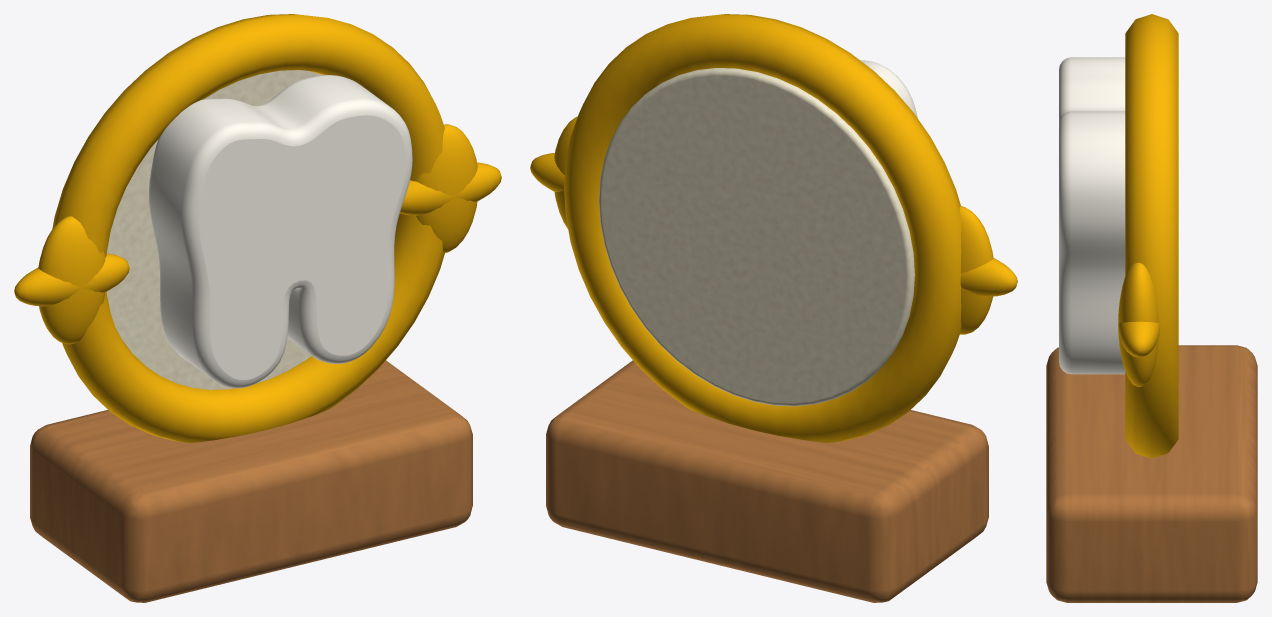
The model's file is display-tooth-care.glb.
3 views of the same model, side by side, from view 1: azimuth 30°, elevation 25°; view 2: azimuth 150°, elevation 25°; view 3: azimuth 270°, elevation 25° (orthographic). The views are drawn at different scales.
Parts seen in each view (by area): view 1: Wooden award plinth, Sculpted tooth, Gold medallion rim, Inset medallion, Gold sparkle, Gold sparkle.002, Gold sparkle.001, Gold sparkle.003; view 2: Inset medallion, Wooden award plinth, Gold medallion rim, Gold sparkle, Gold sparkle.001, Gold sparkle.003, Gold sparkle.002, Sculpted tooth; view 3: Wooden award plinth, Sculpted tooth, Gold medallion rim, Gold sparkle.002, Gold sparkle.003.
Part boxes in pixels (x1,y1,x2,y2): Wooden award plinth: (30,360,472,602); Sculpted tooth: (149,75,412,388); Gold medallion rim: (52,14,444,442); Inset medallion: (106,70,323,389); Gold sparkle: (38,216,105,344); Gold sparkle.002: (416,124,477,252); Gold sparkle.001: (14,253,129,306); Gold sparkle.003: (400,162,501,215); Inset medallion: (599,68,914,406); Wooden award plinth: (546,360,988,602); Gold medallion rim: (564,14,961,442); Gold sparkle: (959,206,993,334); Gold sparkle.001: (960,258,1017,296); Gold sparkle.003: (530,153,564,191); Gold sparkle.002: (554,116,577,228); Sculpted tooth: (860,60,917,117); Wooden award plinth: (1046,345,1257,602); Sculpted tooth: (1059,57,1125,374); Gold medallion rim: (1125,14,1178,458); Gold sparkle.002: (1118,262,1158,387); Gold sparkle.003: (1118,321,1159,357).
Size of the model in its own units: 0.64 by 0.643 by 0.25.
4 materials, 2 textured.
